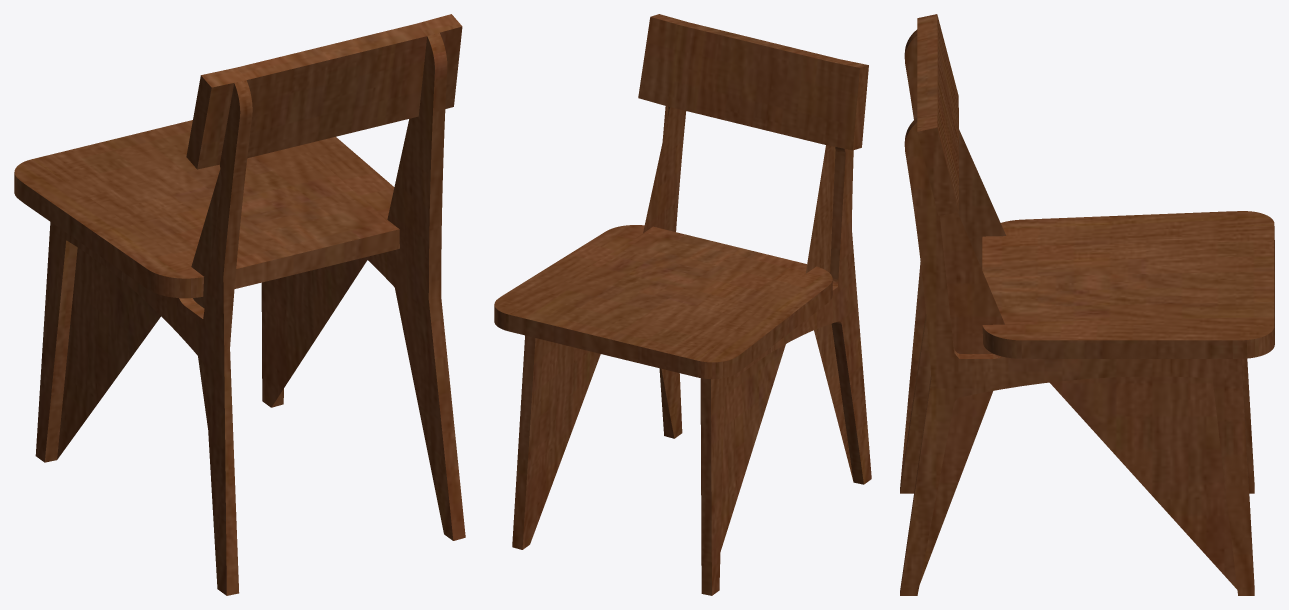
File: Chair.obj
The picture shows the model from 3 angles, left to right: view 1: azimuth 30°, elevation 25°; view 2: azimuth 150°, elevation 25°; view 3: azimuth 270°, elevation 25°; orthographic projection. The views are drawn at different scales.
Parts seen in each view (by area): view 1: Mesh1 Component_2_1 Model, Mesh3 Component_2_1 Model; view 2: Mesh1 Component_2_1 Model, Mesh3 Component_2_1 Model; view 3: Mesh1 Component_2_1 Model, Mesh3 Component_2_1 Model.
Part boxes in pixels (bbox=[...]): Mesh1 Component_2_1 Model: bbox=[35, 14, 465, 595]; Mesh3 Component_2_1 Model: bbox=[14, 120, 399, 298]; Mesh1 Component_2_1 Model: bbox=[512, 14, 871, 595]; Mesh3 Component_2_1 Model: bbox=[494, 225, 832, 379]; Mesh1 Component_2_1 Model: bbox=[900, 14, 1254, 595]; Mesh3 Component_2_1 Model: bbox=[982, 211, 1274, 358].
Size of the model in its own units: 43.96 by 74.81 by 53.89.
Materials: 1 (1 with a texture image).
